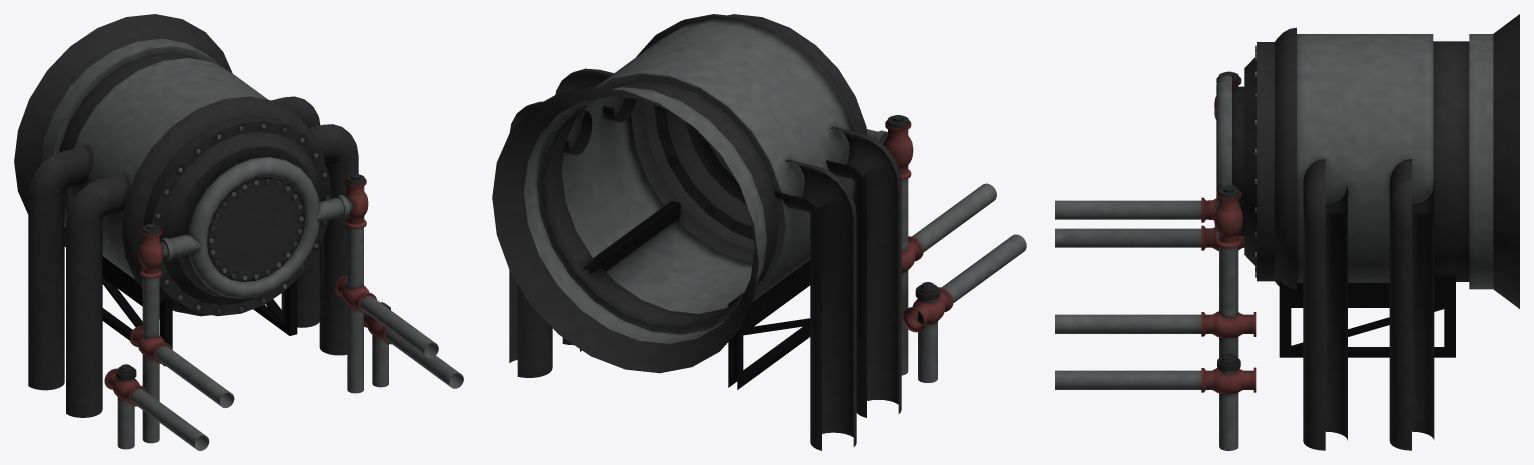
File: sftm_engine.fbx
3 views of the same model, side by side, from view 1: azimuth 30°, elevation 25°; view 2: azimuth 150°, elevation 25°; view 3: azimuth 270°, elevation 25° (orthographic). The views are drawn at different scales.
Parts seen in each view (by area): view 1: Cylinder.060; view 2: Cylinder.060; view 3: Cylinder.060.
Boxes of the visible parts, <box> form: Cylinder.060: <box>14,14,463,450</box>; Cylinder.060: <box>492,14,1026,450</box>; Cylinder.060: <box>1055,14,1519,450</box>.
Bounding box in the file's own units: 2.9 × 2.91 × 3.52.
